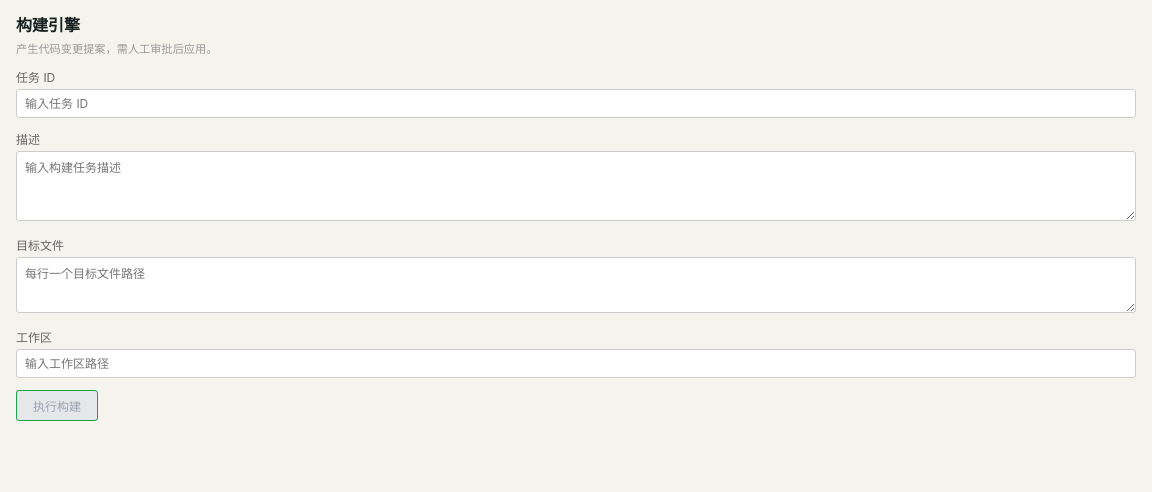
BuilderPanel › executes task and shows results
Type "t1" into the field with placeholder "输入任务 ID". click: coordinates (576, 104)
box: [16, 89, 1136, 118]
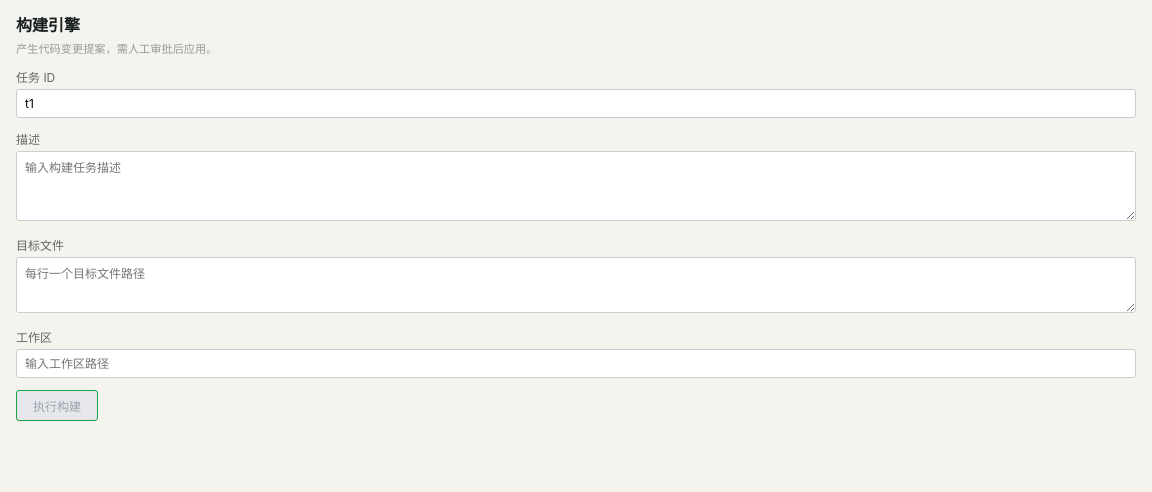
Type "desc" into the text box with placeholder "输入构建任务描述". click: coordinates (576, 186)
box: [16, 151, 1136, 221]
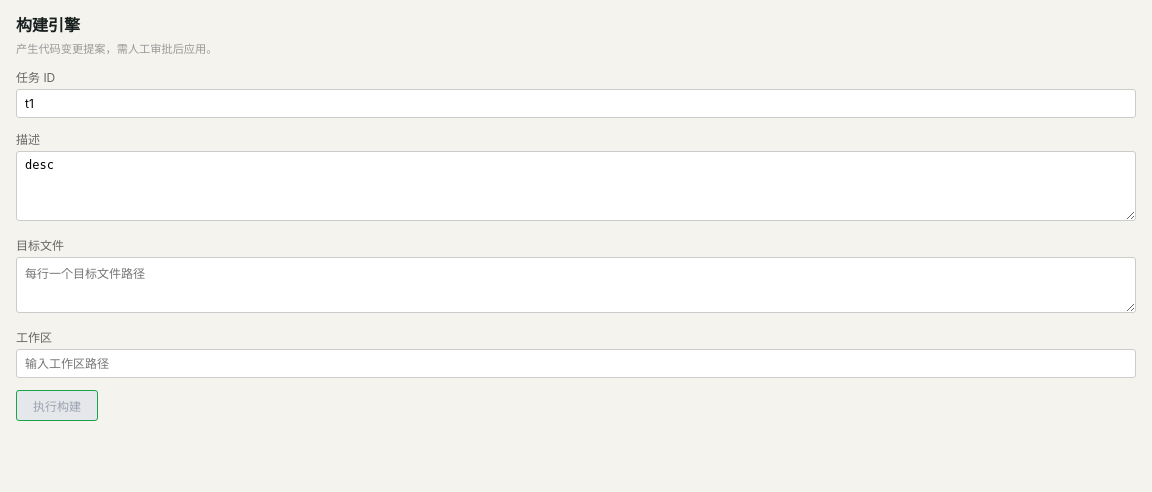
Type "/ws" into the field with placeholder "输入工作区路径". click: coordinates (576, 364)
box: [16, 349, 1136, 378]
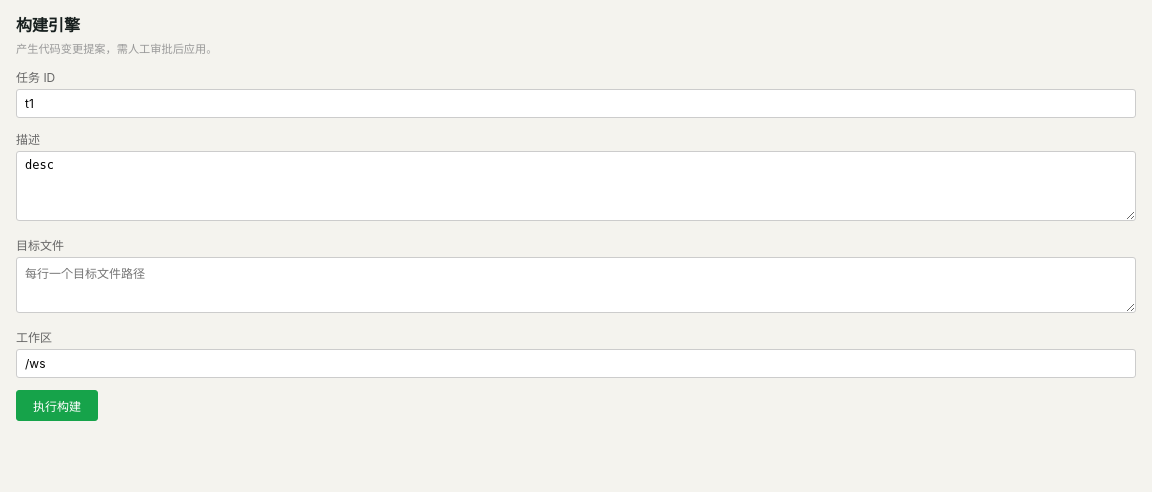
Click the button "执行构建". click: coordinates (57, 406)
box: [16, 390, 98, 421]
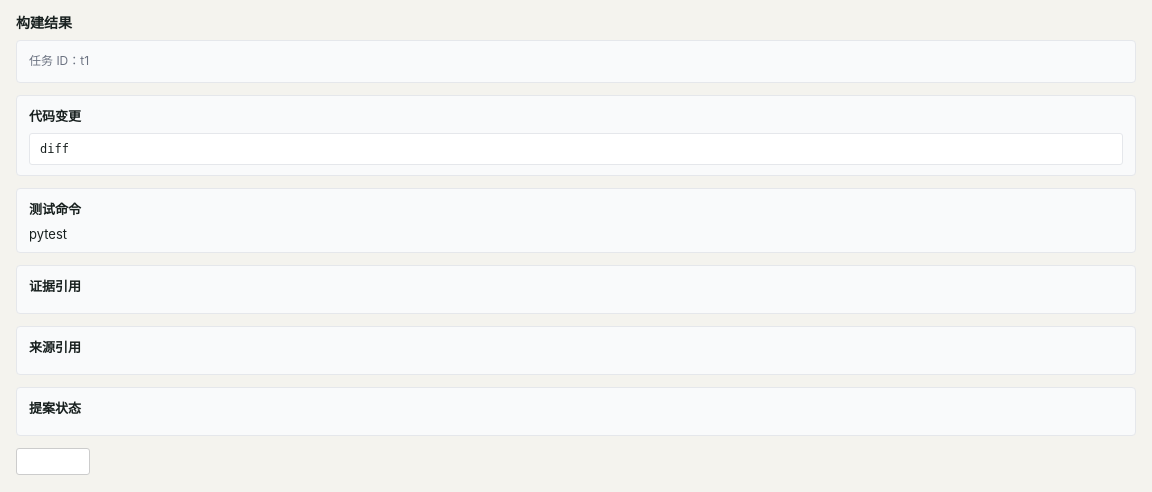
Now the heading "构建结果" is shown, box [16, 14, 72, 31]
Now the text "diff" is shown, box [29, 133, 1123, 165]
Now the text "pytest" is shown, box [29, 226, 67, 242]
